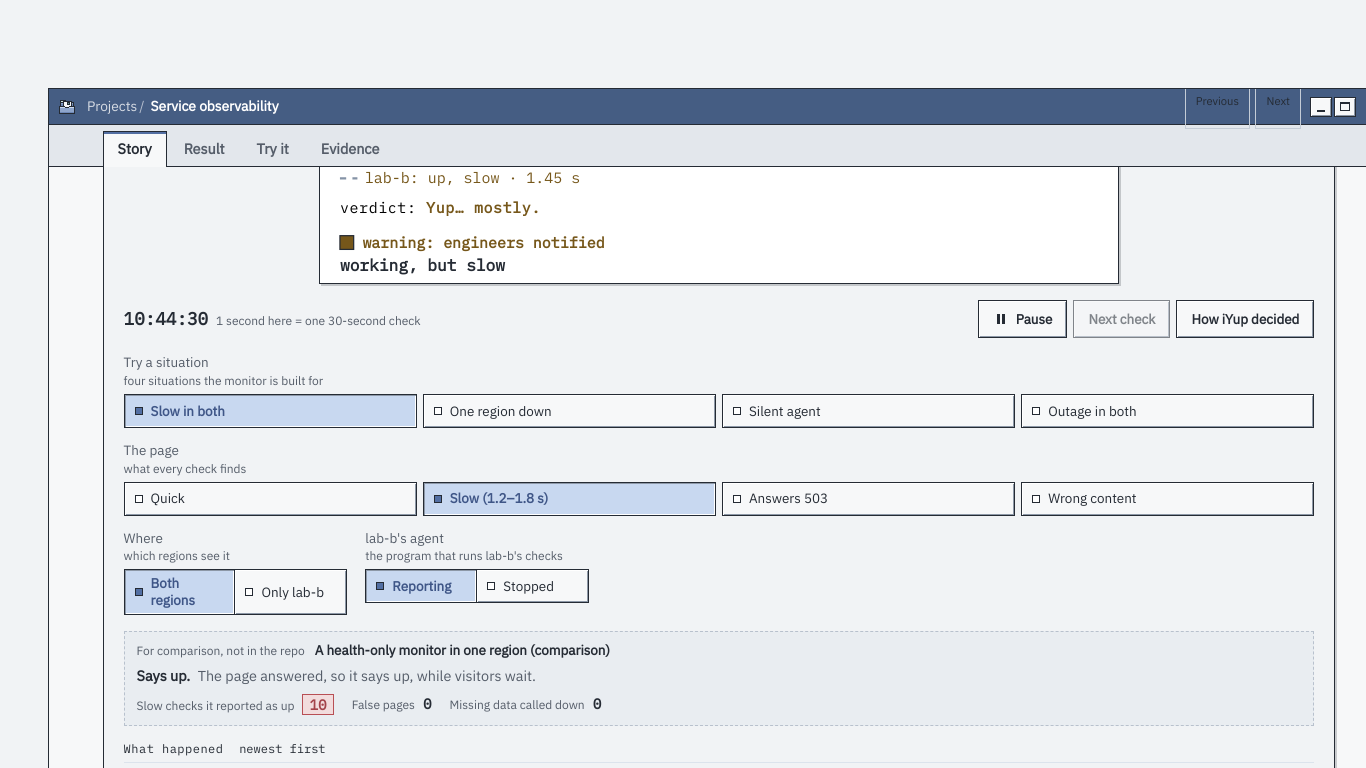
Test: DebuggerWorkspace › runs the monitor live with iYup's rules: slow warns after five minutes, one region failing stays up, and a silent agent is unknown
Later steps or results of the test are not shown.
(page scrolled)
Step 1. Click the button "Answers 503" → (789, 498), box [722,482,1015,516]
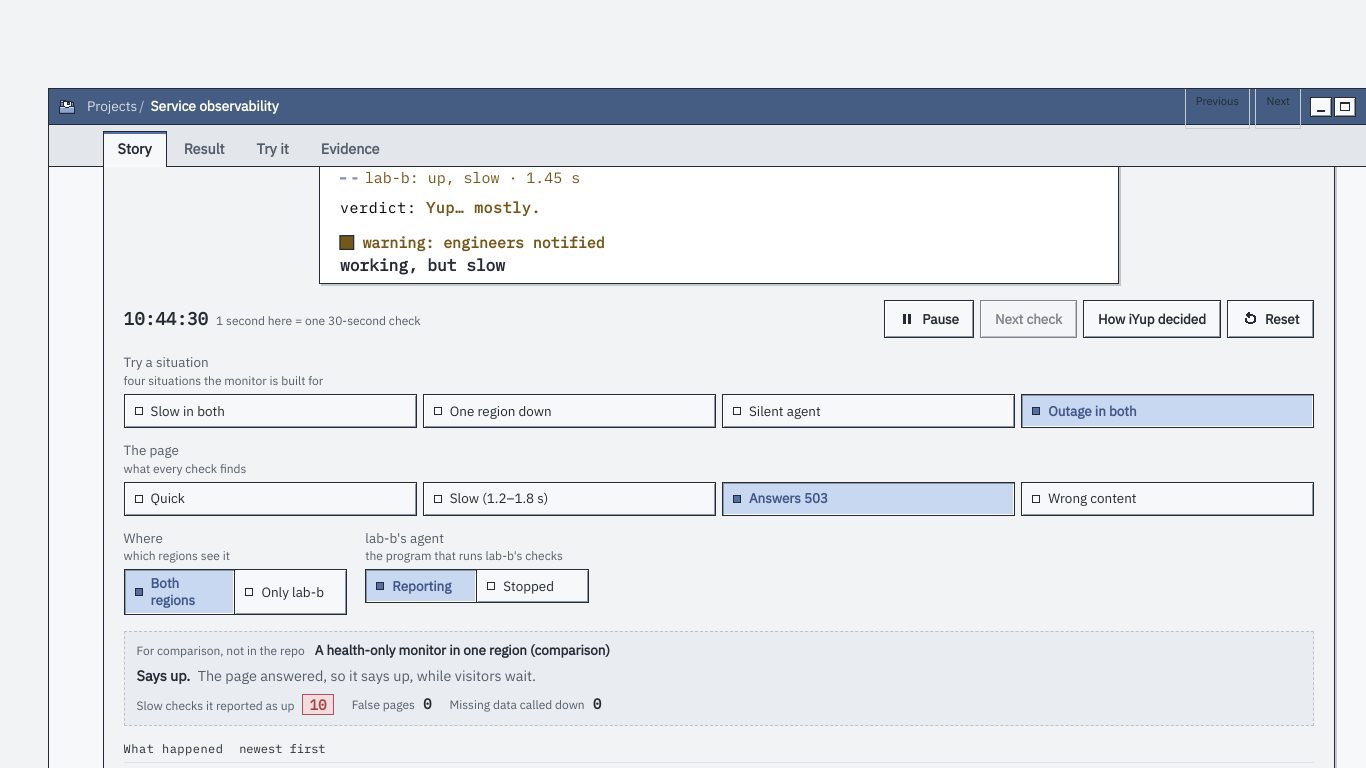
Step 2. Click the button "Only lab-b" → (291, 592), box [234,569,347,615]
Wait 1500 ms
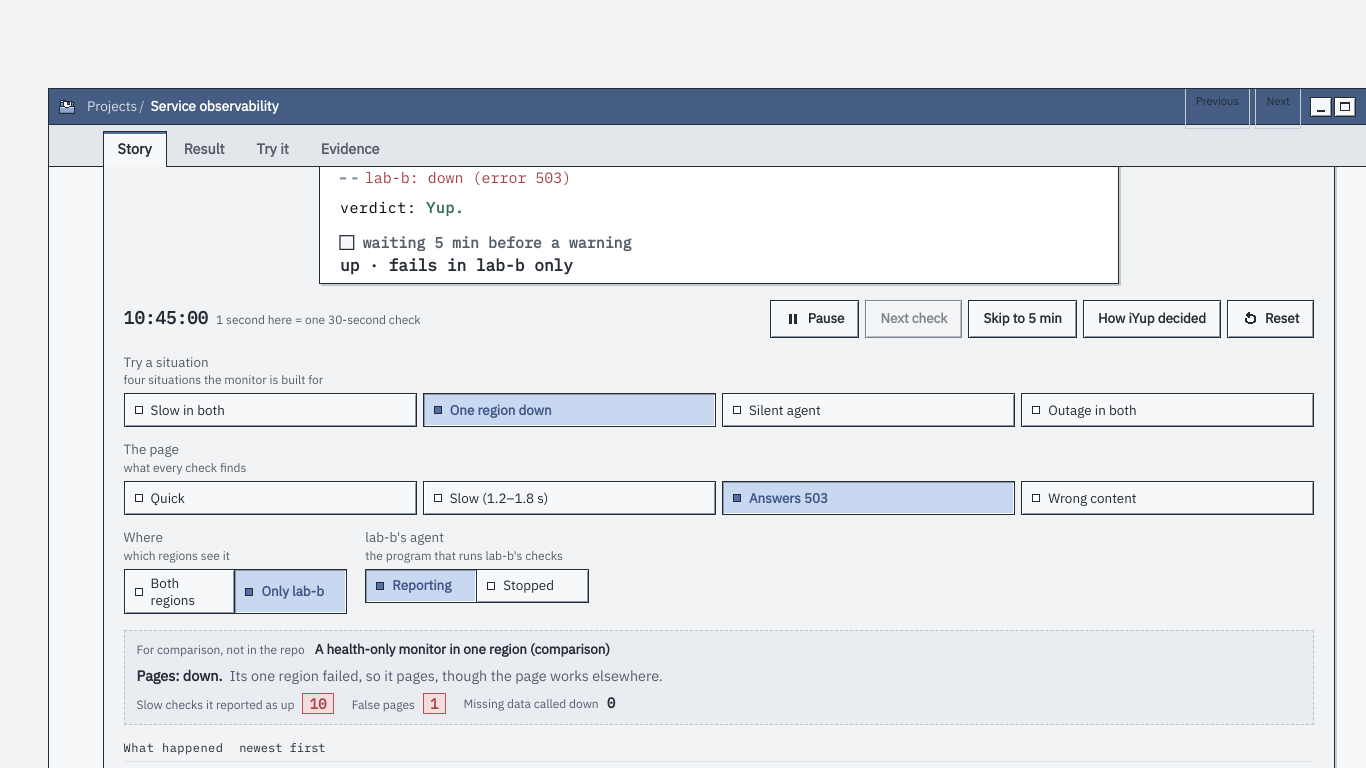
Result: the element with class "sim-shadow-now" shows "Pages" at [137,666,222,685]
